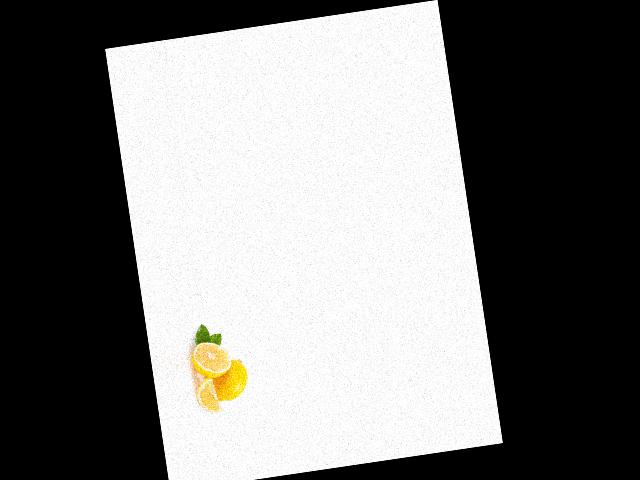lemon: (204, 354, 251, 405)
